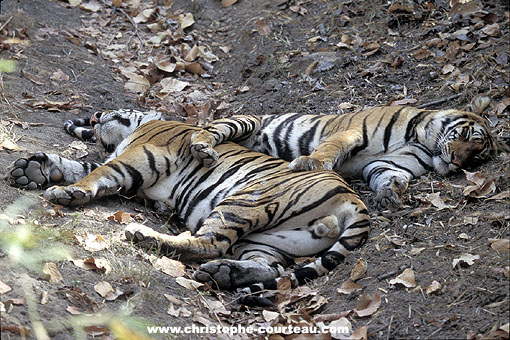Tigre: (19, 106, 362, 274), (247, 94, 497, 187)
